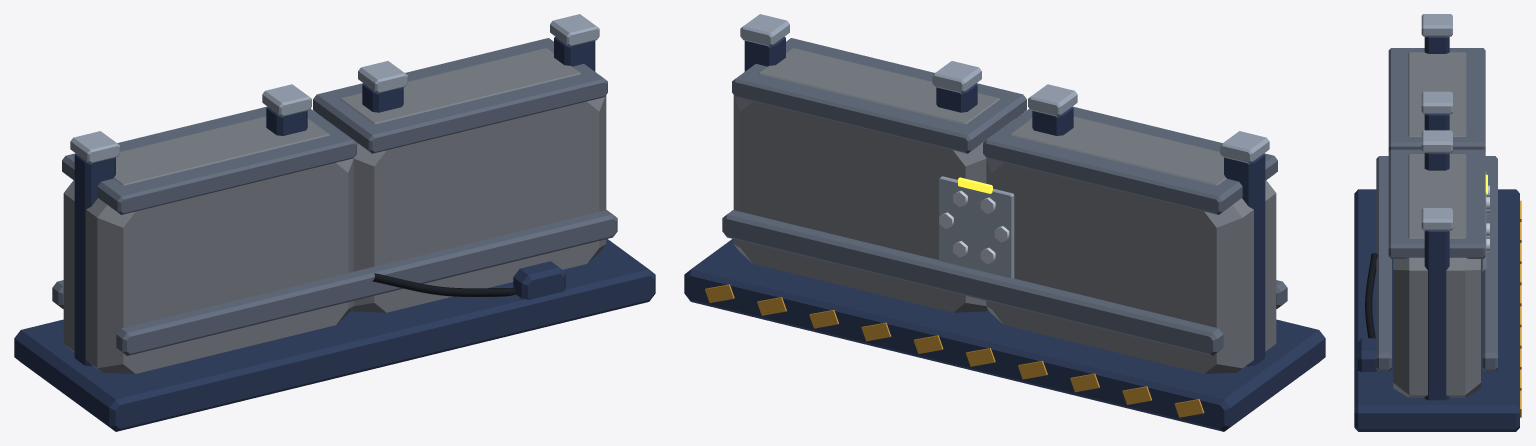
File: tower_barricade.glb
The picture shows the model from 3 angles, left to right: view 1: azimuth 30°, elevation 25°; view 2: azimuth 150°, elevation 25°; view 3: azimuth 270°, elevation 25°; orthographic projection. The views are drawn at different scales.
Parts seen in each view (by area): view 1: barricade_block_r, barricade_block_l, barricade_footing, barricade_beam_rear, barricade_block_cap_l, barricade_block_cap_r, barricade_post1.5, barricade_junction, barricade_loom, barricade_post_cap-1.5, barricade_post_cap0.3, barricade_post_cap1.5 (+4 smaller); view 2: barricade_block_r, barricade_block_l, barricade_footing, barricade_beam, barricade_block_cap_l, barricade_block_cap_r, barricade_centre_plate, barricade_footing_hazard, barricade_post1.5, barricade_centre_bolts, barricade_post_cap-1.5, barricade_post_cap0.3 (+5 smaller); view 3: barricade_footing, barricade_block_l, barricade_block_cap_l, barricade_block_cap_r, barricade_block_r, barricade_post-1.5, barricade_beam_rear, barricade_beam, barricade_post_cap0.3, barricade_post_cap-1.5, barricade_post_cap-0.3, barricade_post_cap1.5 (+8 smaller).
Boxes of the visible parts, box(x1,y1,x2,y2) form: barricade_block_r: box(63, 116, 353, 373); barricade_block_l: box(325, 48, 606, 312); barricade_footing: box(14, 239, 655, 431); barricade_beam_rear: box(116, 210, 617, 355); barricade_block_cap_l: box(313, 38, 607, 153); barricade_block_cap_r: box(62, 106, 356, 214); barricade_post1.5: box(74, 153, 115, 366); barricade_junction: box(513, 261, 565, 300); barricade_loom: box(372, 273, 515, 296); barricade_post_cap-1.5: box(550, 14, 599, 46); barricade_post_cap0.3: box(262, 84, 311, 116); barricade_post_cap1.5: box(70, 131, 119, 163); barricade_block_r: box(986, 116, 1276, 373); barricade_block_l: box(733, 48, 1014, 312); barricade_footing: box(684, 239, 1325, 431); barricade_beam: box(722, 210, 1223, 355); barricade_block_cap_l: box(732, 38, 1026, 153); barricade_block_cap_r: box(983, 106, 1277, 214); barricade_centre_plate: box(939, 176, 1014, 278); barricade_footing_hazard: box(705, 284, 1204, 417); barricade_post1.5: box(1224, 153, 1265, 366); barricade_centre_bolts: box(939, 190, 1009, 264); barricade_post_cap-1.5: box(740, 14, 789, 46); barricade_post_cap0.3: box(1028, 84, 1077, 116); barricade_footing: box(1354, 189, 1519, 431); barricade_block_l: box(1393, 154, 1480, 397); barricade_block_cap_l: box(1388, 149, 1485, 258); barricade_block_cap_r: box(1388, 48, 1485, 151); barricade_block_r: box(1408, 52, 1466, 136); barricade_post-1.5: box(1424, 230, 1449, 400); barricade_beam_rear: box(1376, 156, 1391, 371); barricade_beam: box(1482, 156, 1497, 371); barricade_post_cap0.3: box(1421, 91, 1452, 114); barricade_post_cap-1.5: box(1421, 208, 1452, 230); barricade_post_cap-0.3: box(1421, 130, 1452, 152); barricade_post_cap1.5: box(1421, 14, 1452, 36).
Bounding box in the file's own units: 5.03 × 2.2 × 1.6.
